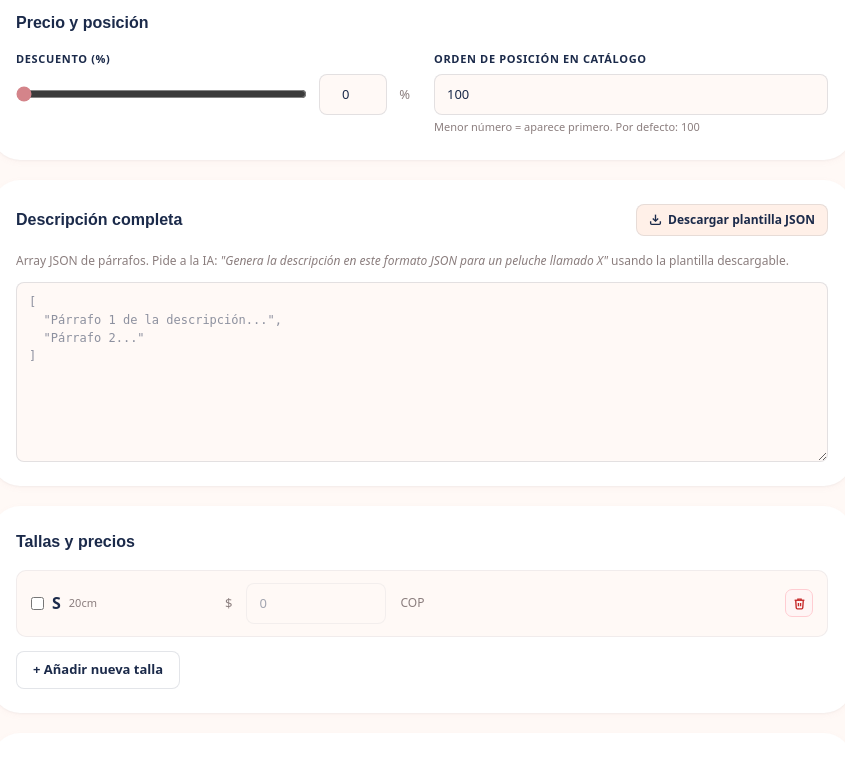
PeluchForm › shows JSON error when description textarea contains invalid JSON
(page scrolled)
Type "not valid json" into the text box with placeholder "[ \"Párrafo 1 de la descripción...\", \"Párrafo 2...\" ]" at (422, 372), box [16,282,828,462]
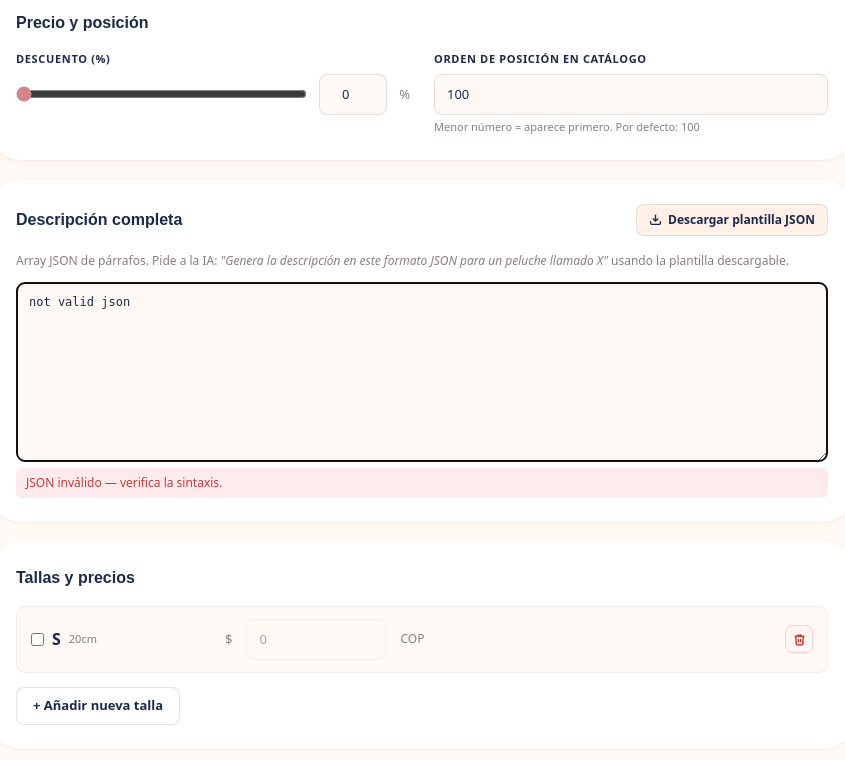
expect the text "JSON inválido — verifica la sintaxis." is shown: met, box [16,468,828,498]
